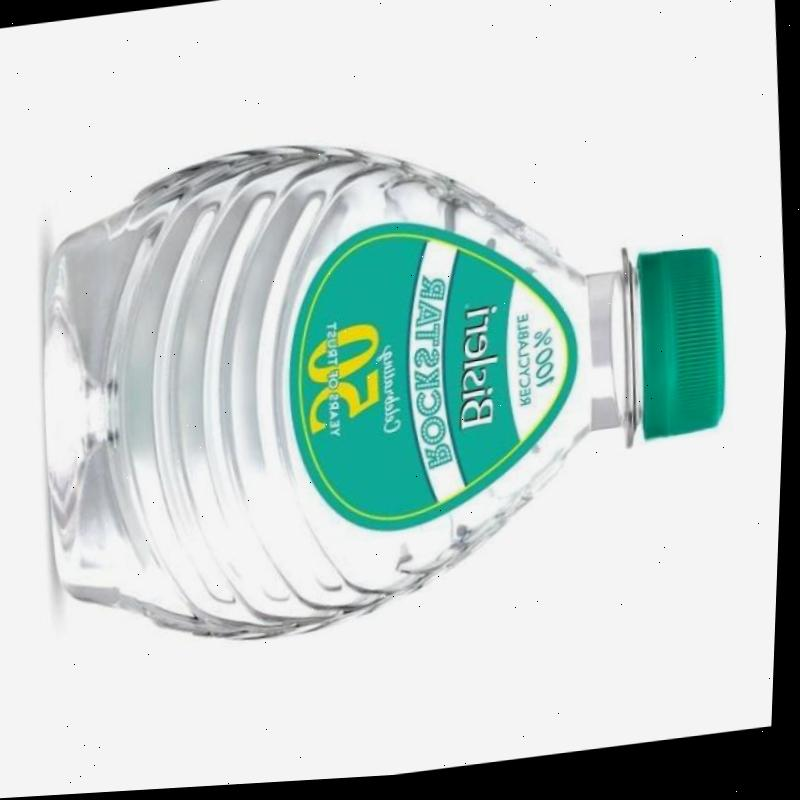botella: (19, 88, 753, 669)
